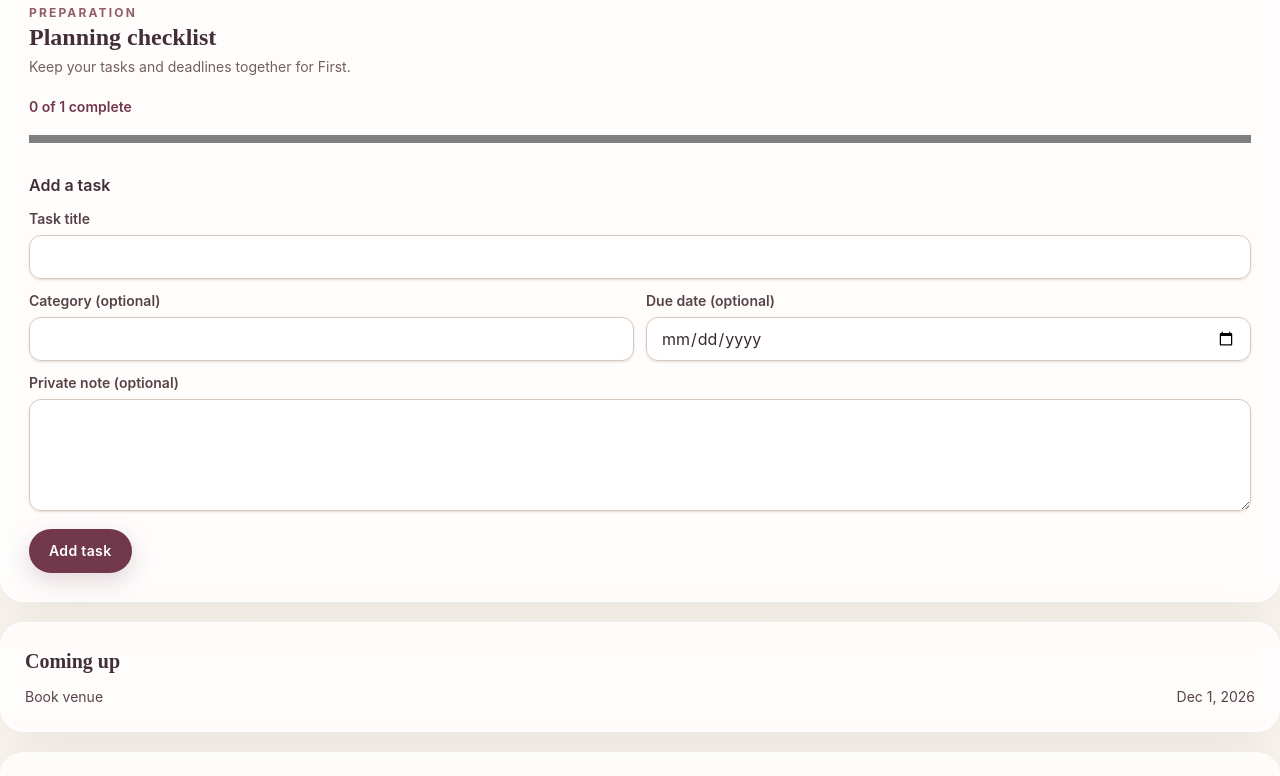
Test: PlanningWorkspace › loads real totals, creates, edits, completes and confirms removal
Expected: the text "Book venue" is shown, [25,687,103,707]
Expected: the text "0 of 1 complete" is shown, [29,98,132,115]
Type "Flowers" into the field labelled "Task title" at (640, 257), box [29,235,1251,279]
Click the button "Add task" at (80, 551), box [29,529,132,573]
(page scrolled)
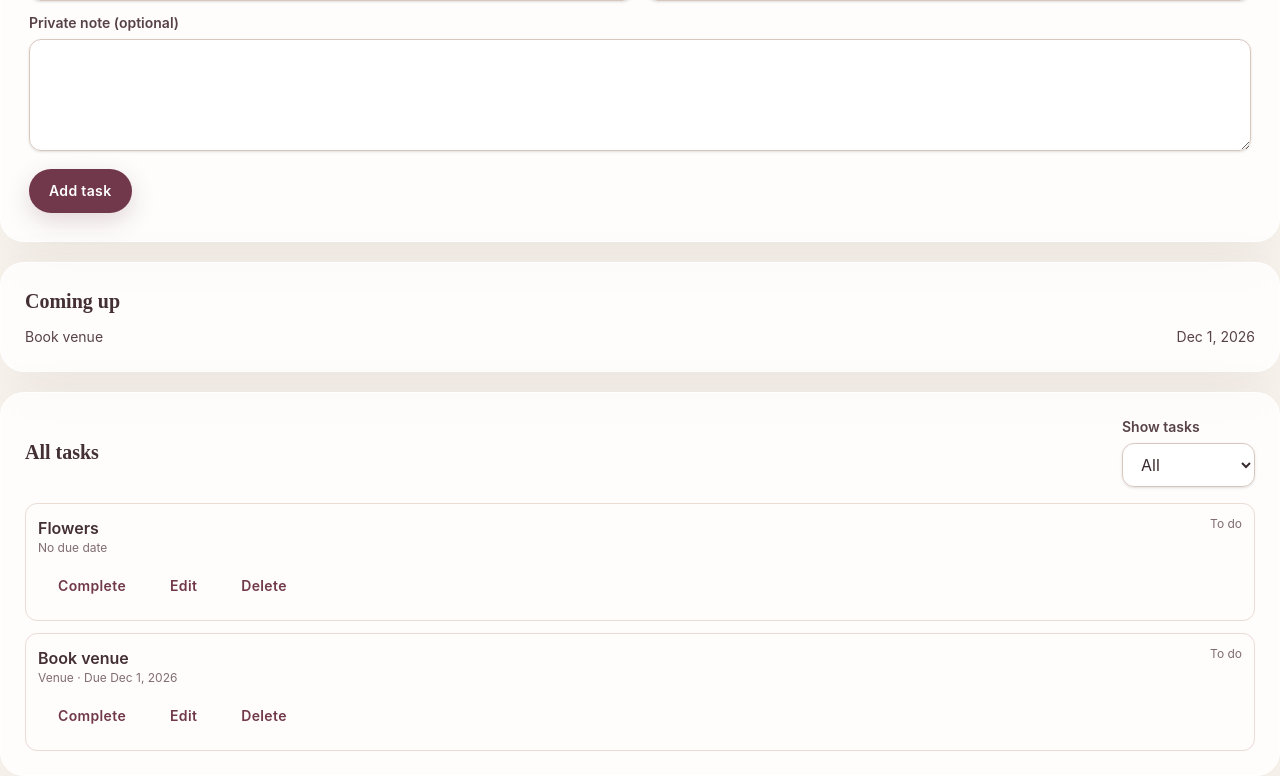
Expected: the text "Flowers" is shown, [38,516,107,540]
Click the button with aria-label "edit book venue" at (184, 716), box [150,694,217,738]
(page scrolled)
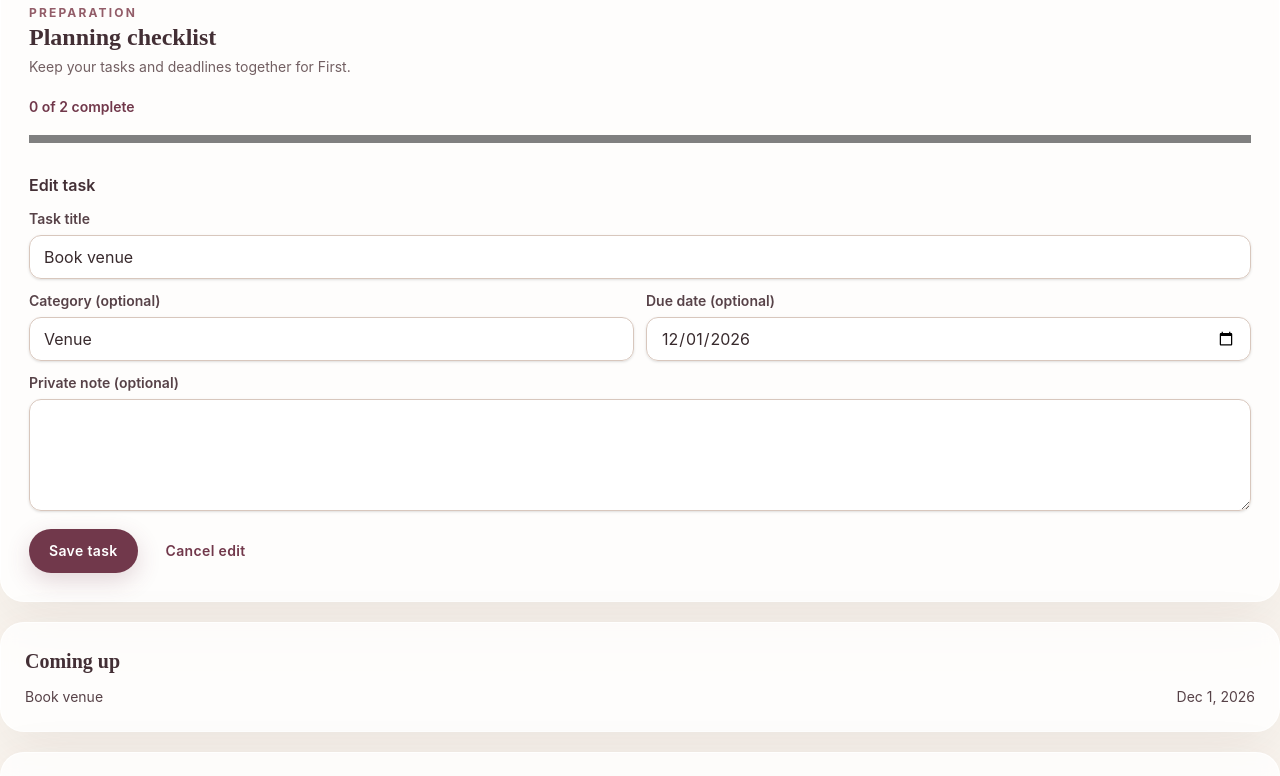
Replace the text in the field labelled "Task title" with "Choose venue" at (640, 257), box [29,235,1251,279]
Click the button "Save task" at (83, 551), box [29,529,138,573]
(page scrolled)
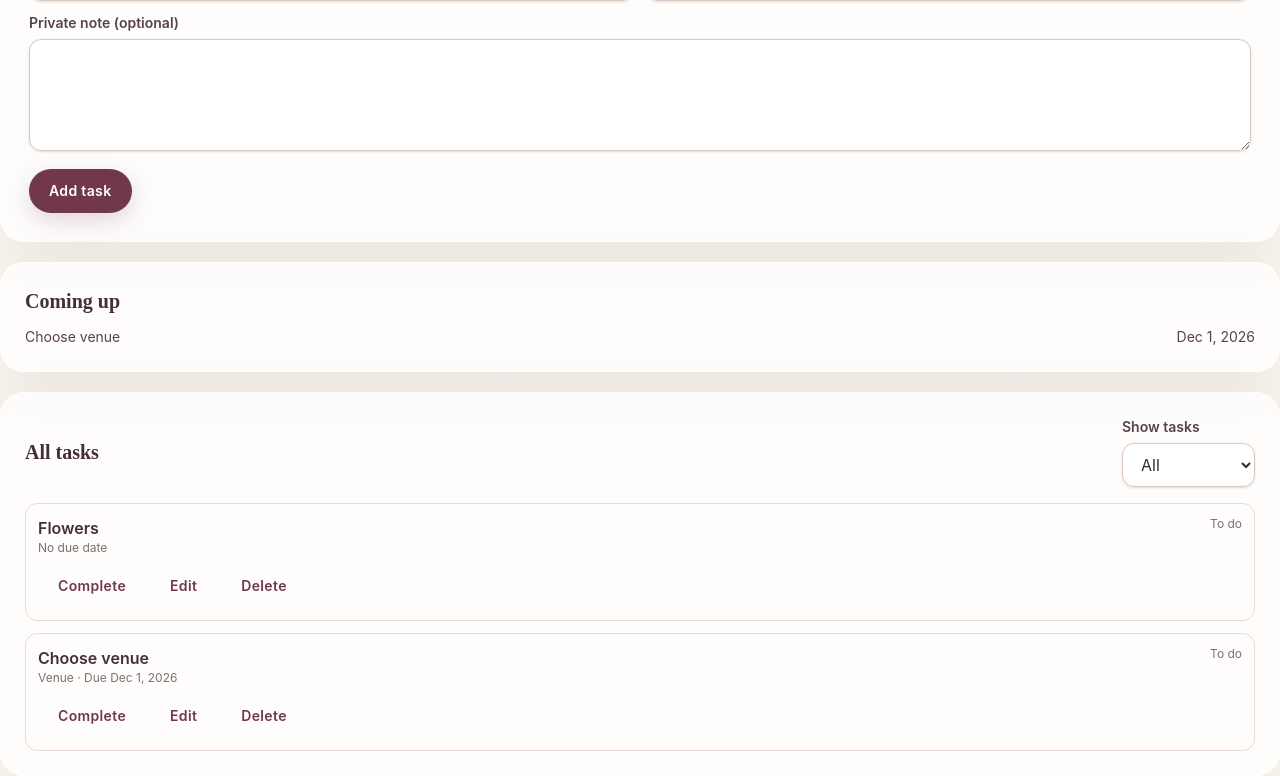
Expected: the text "Choose venue" below "Coming up" is shown, [25,328,120,345]
Click the button with aria-label "complete choose venue" at (92, 716), box [38,694,146,738]
(page scrolled)
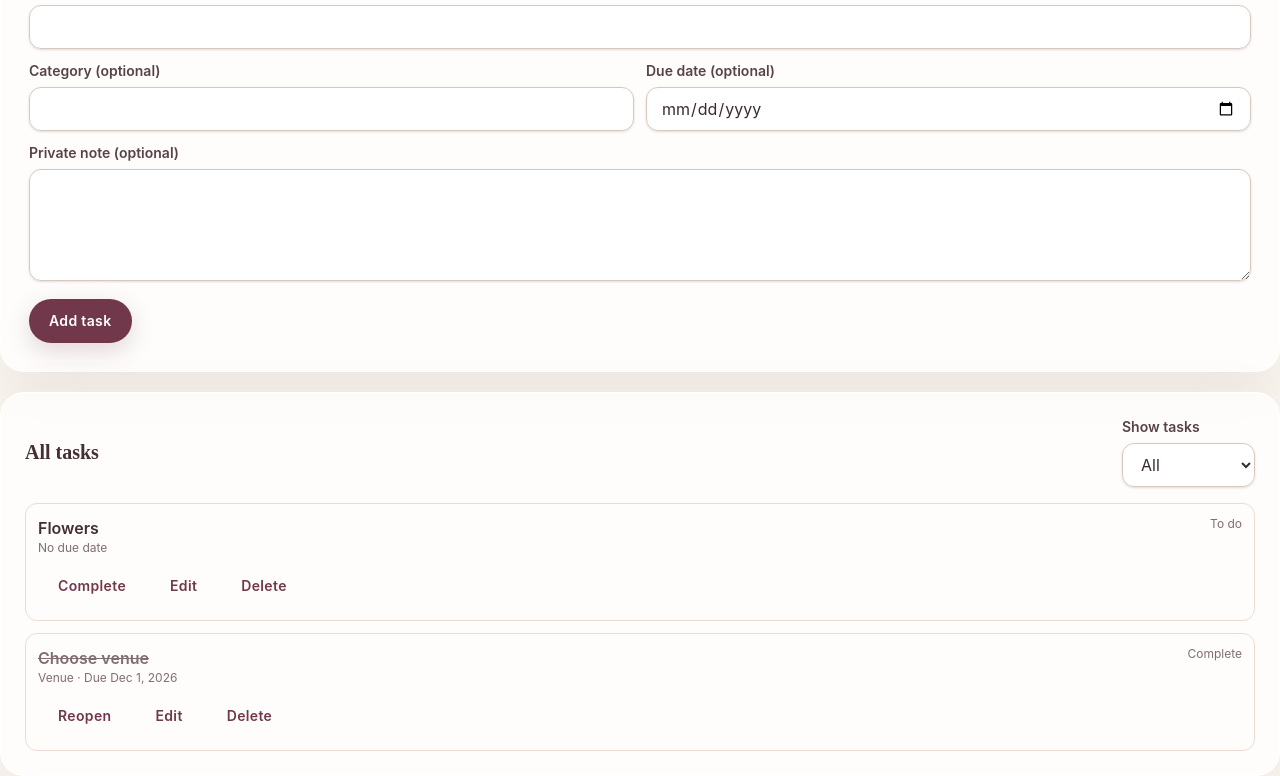
Click the button with aria-label "delete choose venue" at (249, 716), box [207,694,292,738]
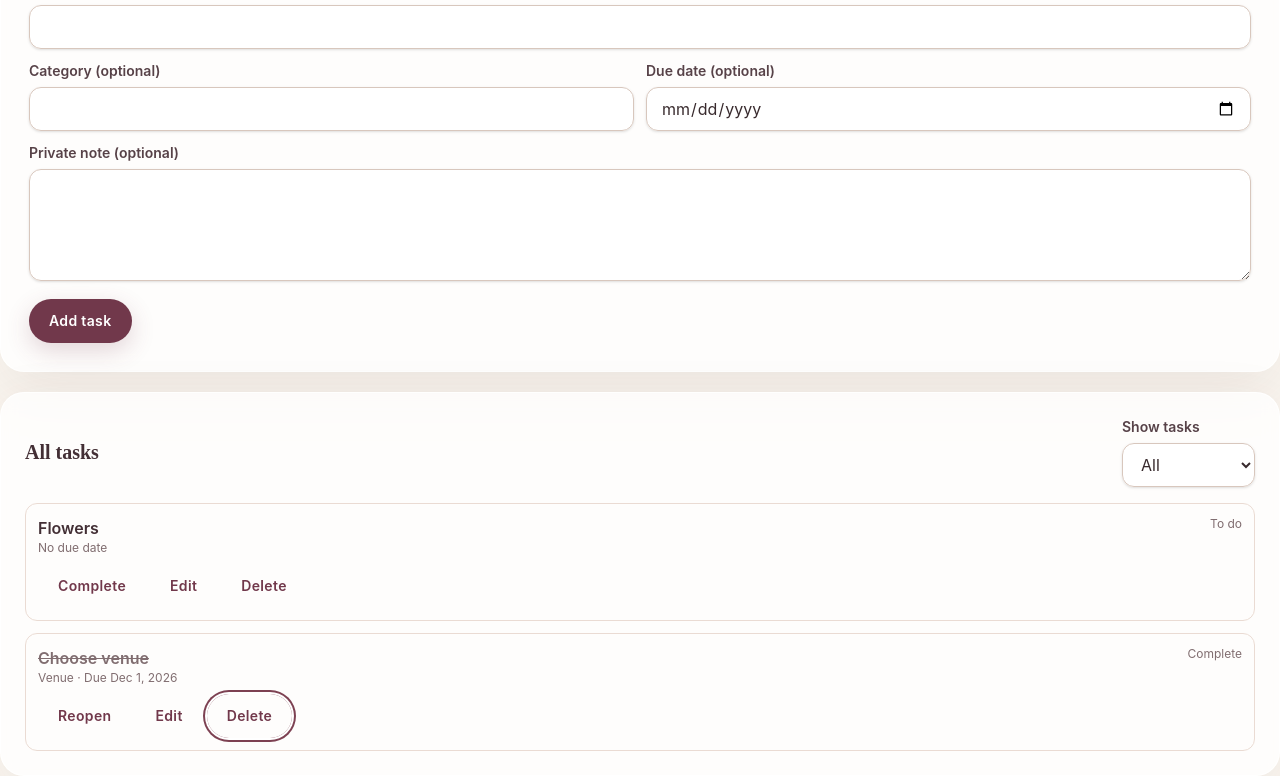
Click the button with aria-label "delete choose venue" at (249, 716), box [207,694,292,738]
(page scrolled)
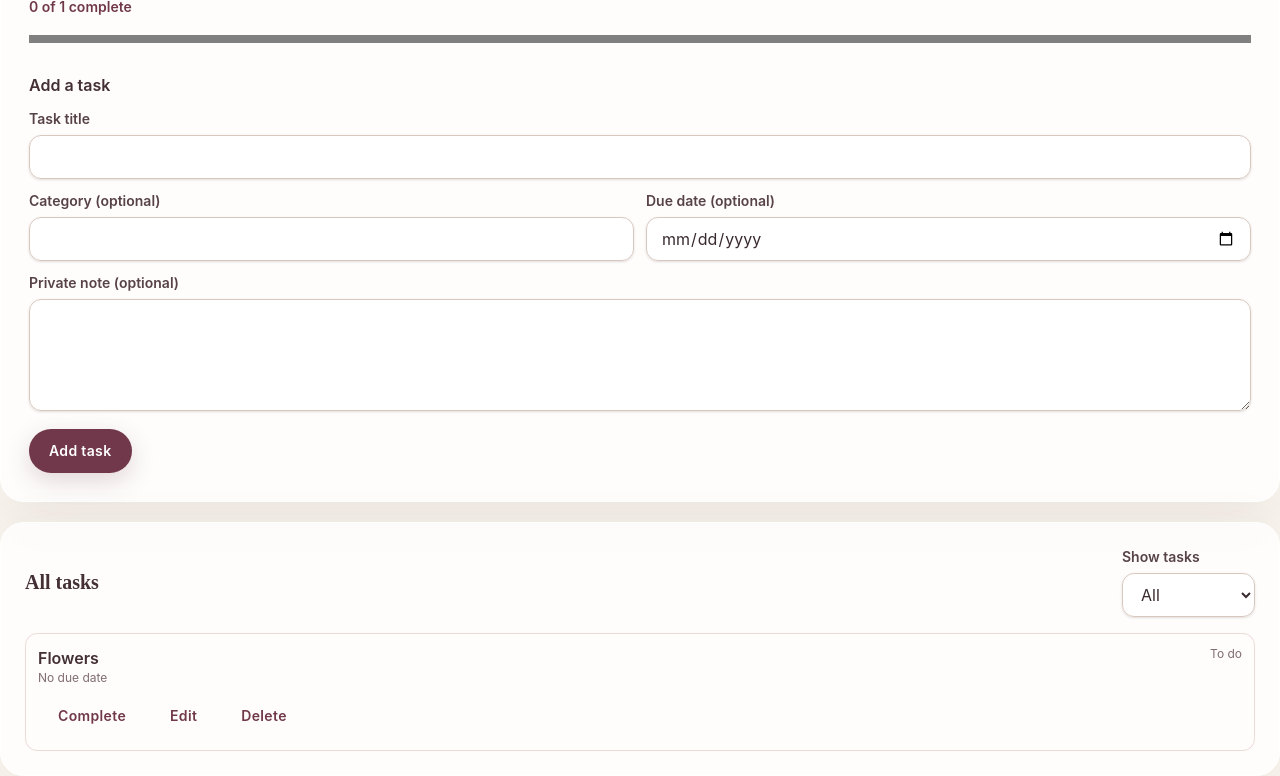
Expected: the text "Choose venue" is gone
